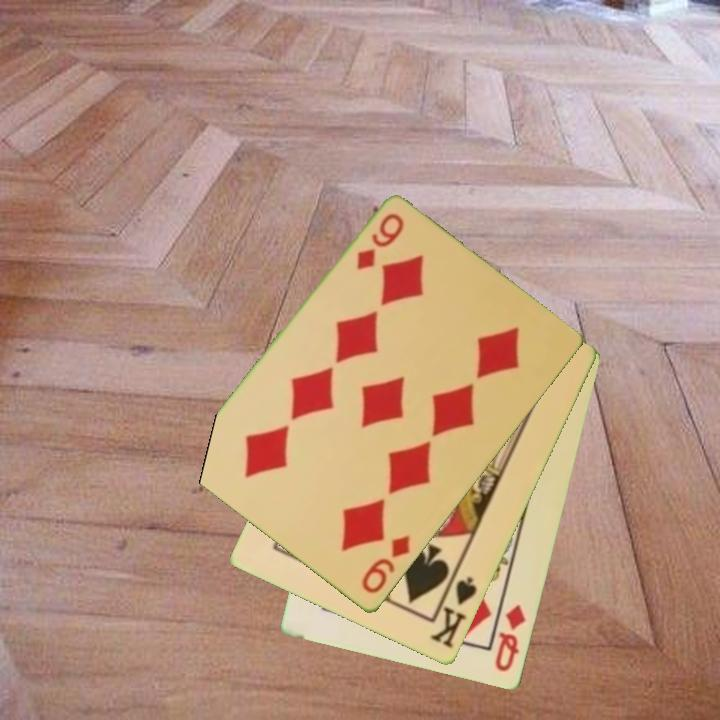9d: (358, 532, 414, 598), (353, 210, 408, 274)
Ks: (427, 568, 480, 652)
Qd: (492, 601, 529, 676)
